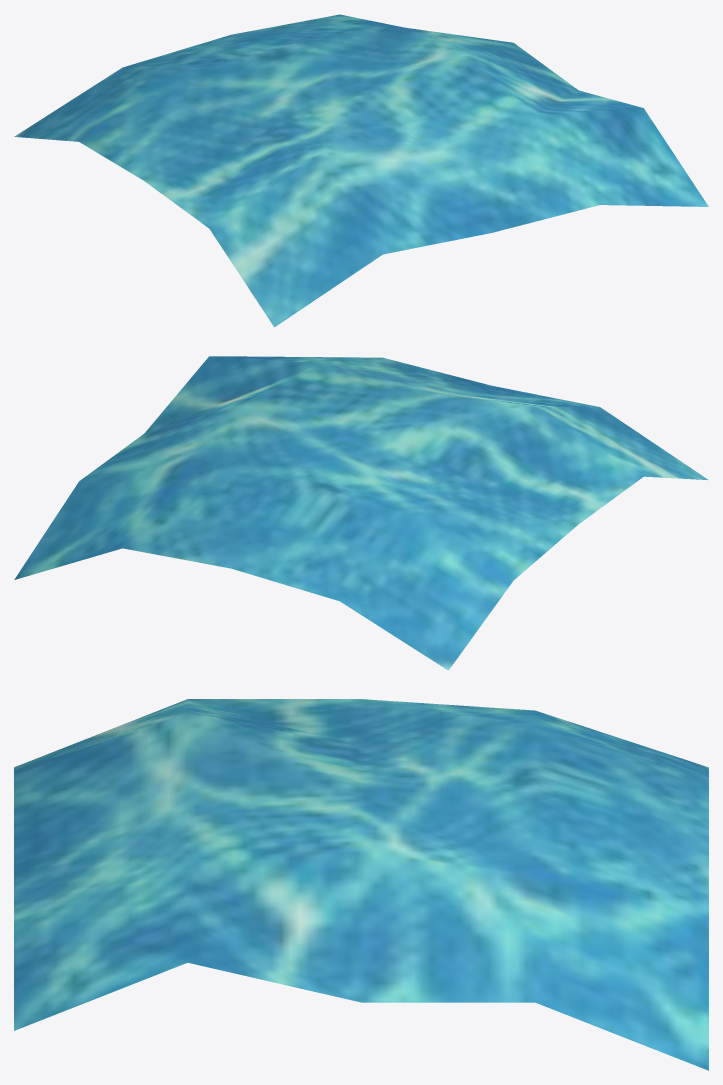
File: wground.glb
The picture shows the model from 3 angles, top to bottom: view 1: azimuth 30°, elevation 25°; view 2: azimuth 150°, elevation 25°; view 3: azimuth 270°, elevation 25°; orthographic projection. The views are drawn at different scales.
Visible parts, largest first — view 1: wground; view 2: wground; view 3: wground.
Boxes of the visible parts, left/top/right/bottom form: wground: left=14, top=14, right=708, bottom=327; wground: left=14, top=356, right=708, bottom=670; wground: left=14, top=699, right=708, bottom=1070.
Bounding box in the file's own units: 0.3614 × 0.088 × 0.3752.
1 material, 1 textured.
